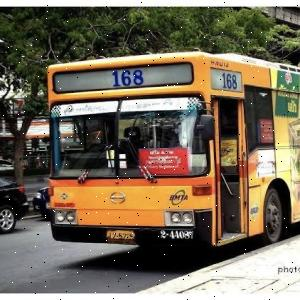BMTA-bus: (44, 51, 300, 252)
Bus Line Number: (106, 67, 146, 87)
Bus Side Number: (158, 226, 195, 241)
Destination Sign: (138, 149, 192, 175)
